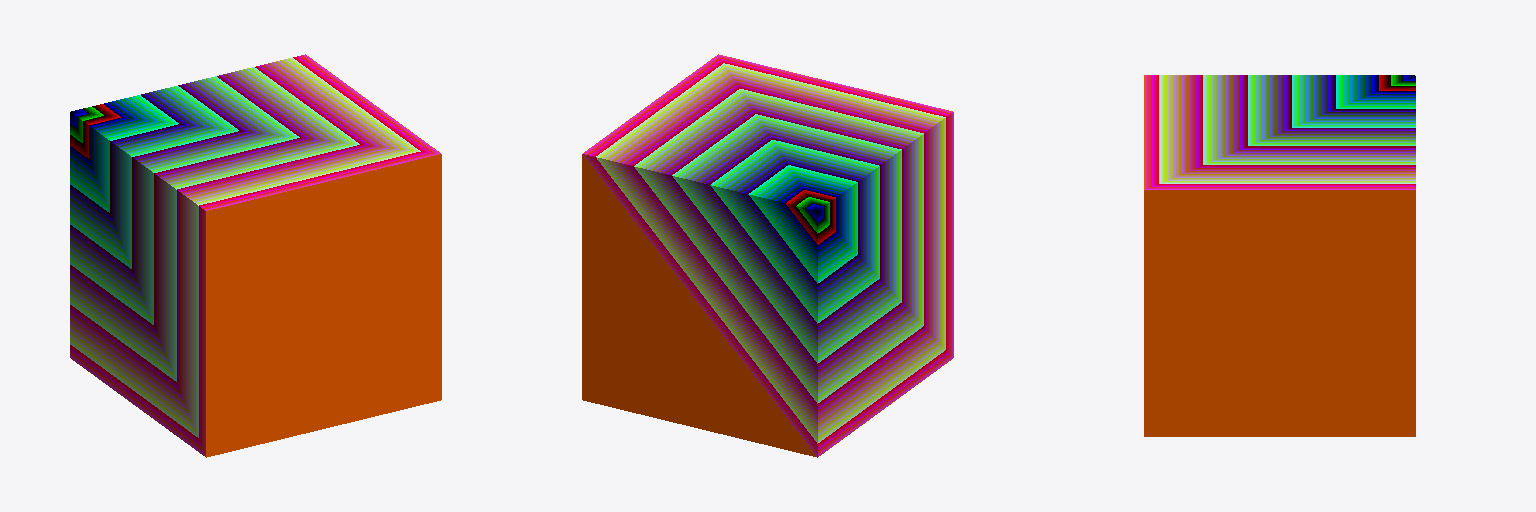
3 renders of one model, left to right at view 1: azimuth 30°, elevation 25°; view 2: azimuth 150°, elevation 25°; view 3: azimuth 270°, elevation 25°, orthographic.
Visible parts, largest first — view 1: object 1; view 2: object 1; view 3: object 1.
Part boxes in pixels (x1,y1,x2,y2): object 1: (70,54,441,457); object 1: (582,54,953,457); object 1: (1144,75,1415,436).
Size of the model in its own units: 12.8 by 12.8 by 12.8.
Materials: 1 (1 with a texture image).